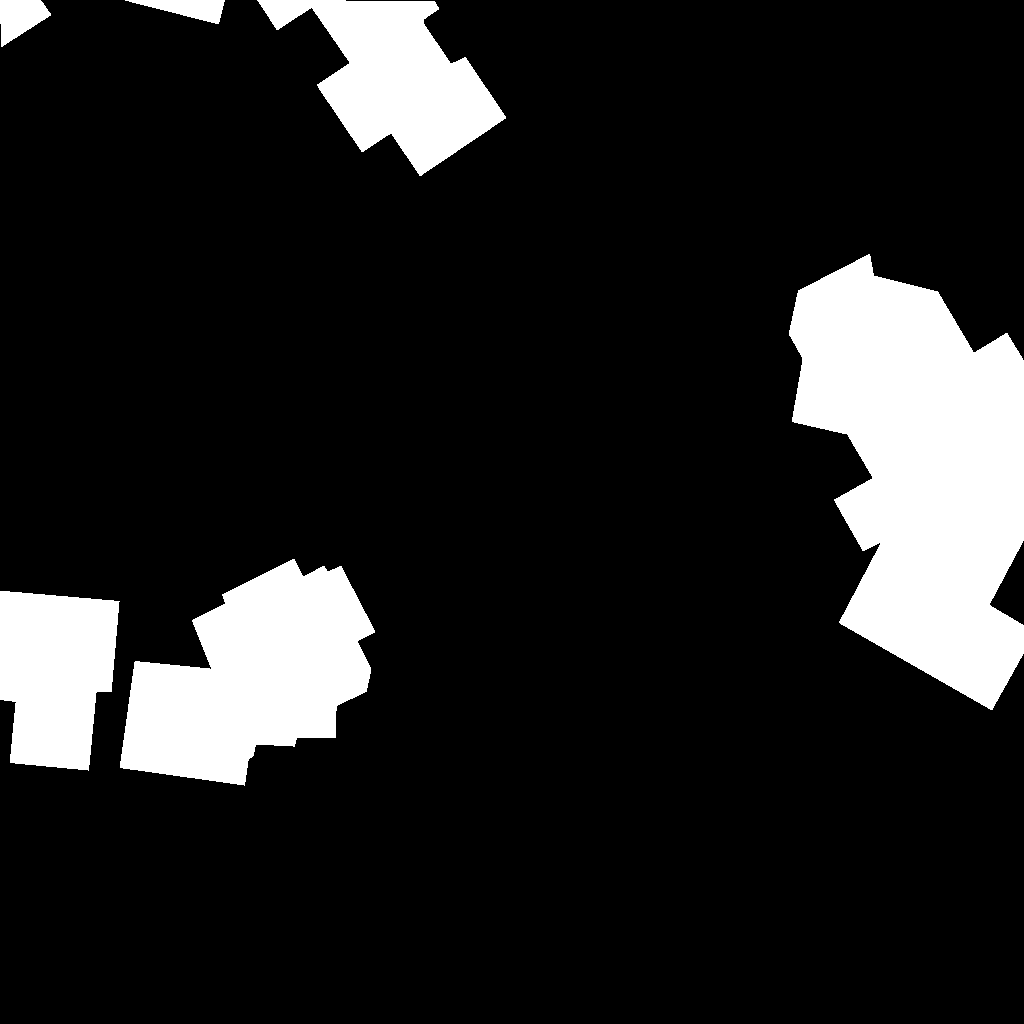building: (789, 254, 1024, 711), (123, 0, 507, 177), (120, 559, 376, 786), (0, 591, 120, 771), (0, 0, 52, 48)
